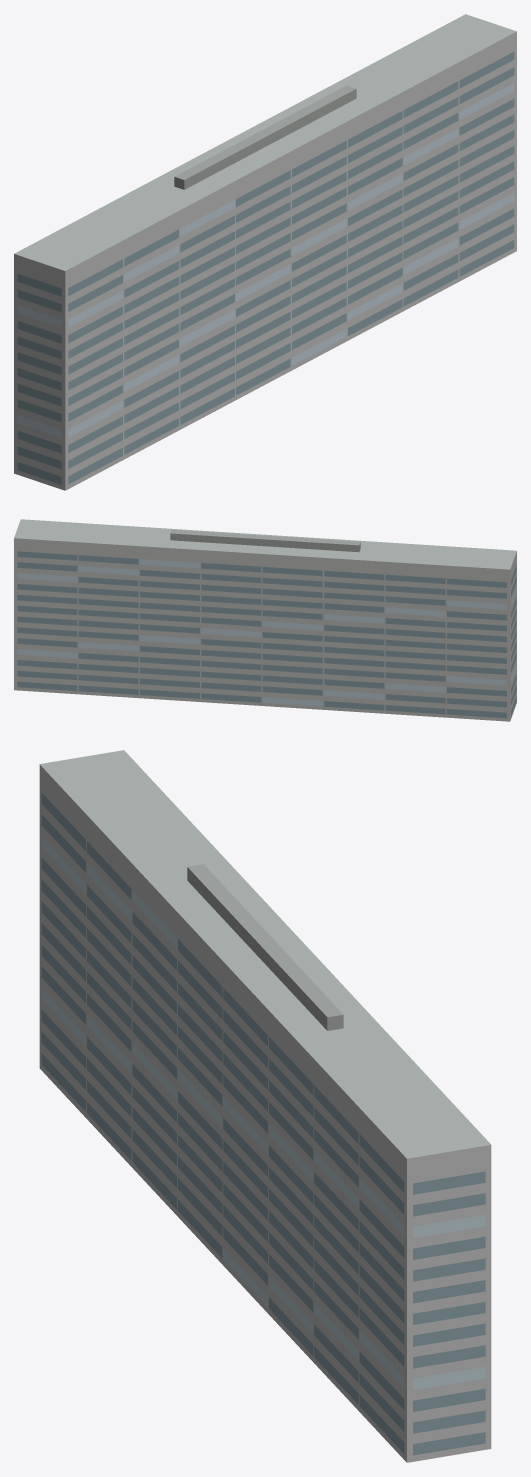
Rendered from fallback-daechi-eunma-30.glb.
3 views of the same model, one above another, from view 1: azimuth 30°, elevation 25°; view 2: azimuth 150°, elevation 25°; view 3: azimuth 270°, elevation 25° (orthographic). The views are drawn at different scales.
Parts seen in each view (by area): view 1: fallback-daechi-eunma-30; view 2: fallback-daechi-eunma-30; view 3: fallback-daechi-eunma-30.
Part boxes in pixels (bbox=[...]): fallback-daechi-eunma-30: bbox=[14, 14, 516, 490]; fallback-daechi-eunma-30: bbox=[14, 519, 516, 721]; fallback-daechi-eunma-30: bbox=[39, 750, 491, 1462].
Bounding box in the file's own units: 123 × 44.62 × 57.51.
